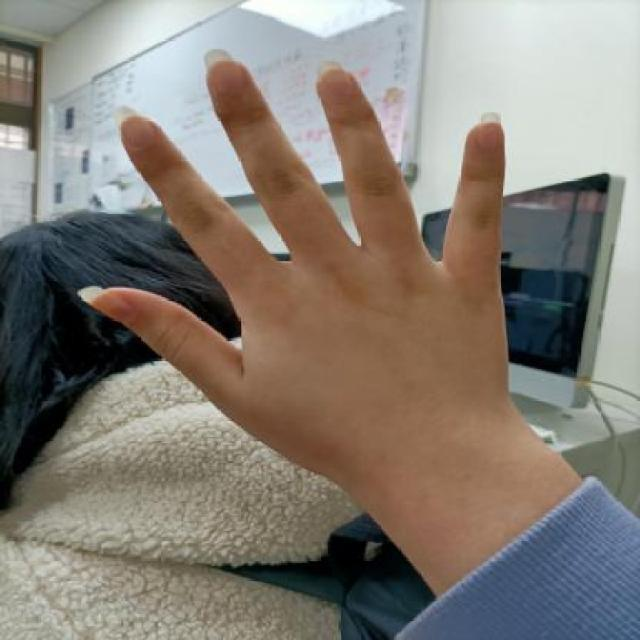bare_hand: (60, 34, 529, 488)
